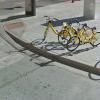Bicycle: (32, 7, 99, 59)
